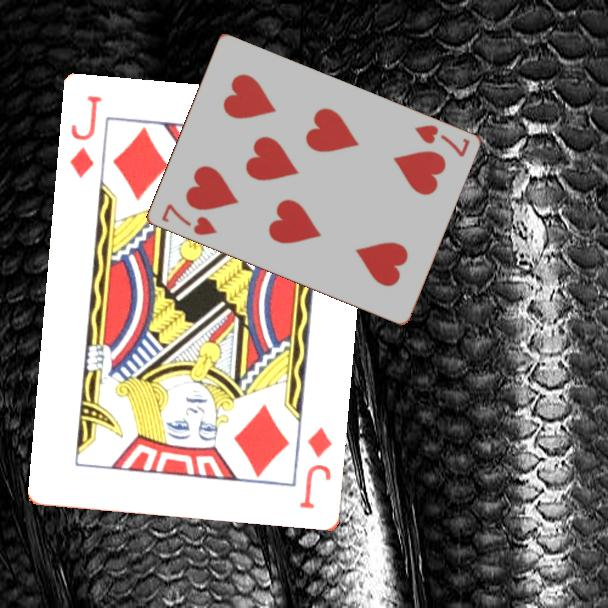d11: (66, 92, 106, 182), (297, 424, 336, 512)
h07: (410, 121, 472, 160), (157, 200, 220, 238)
